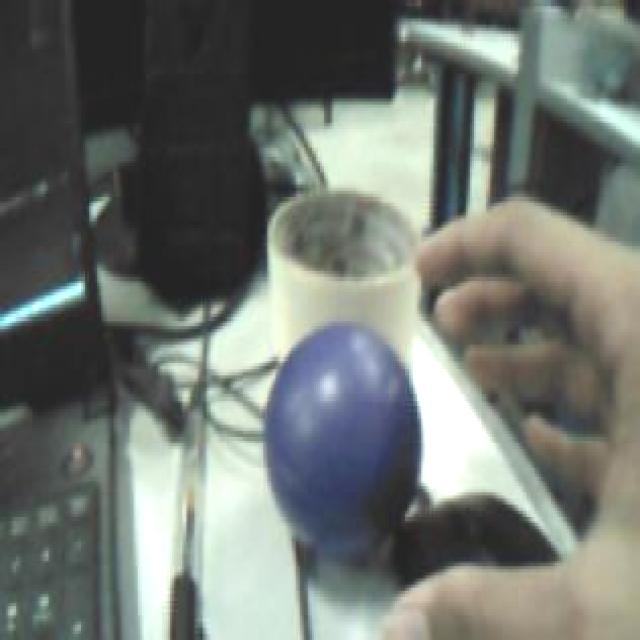BallPurple: (263, 322, 422, 566)
